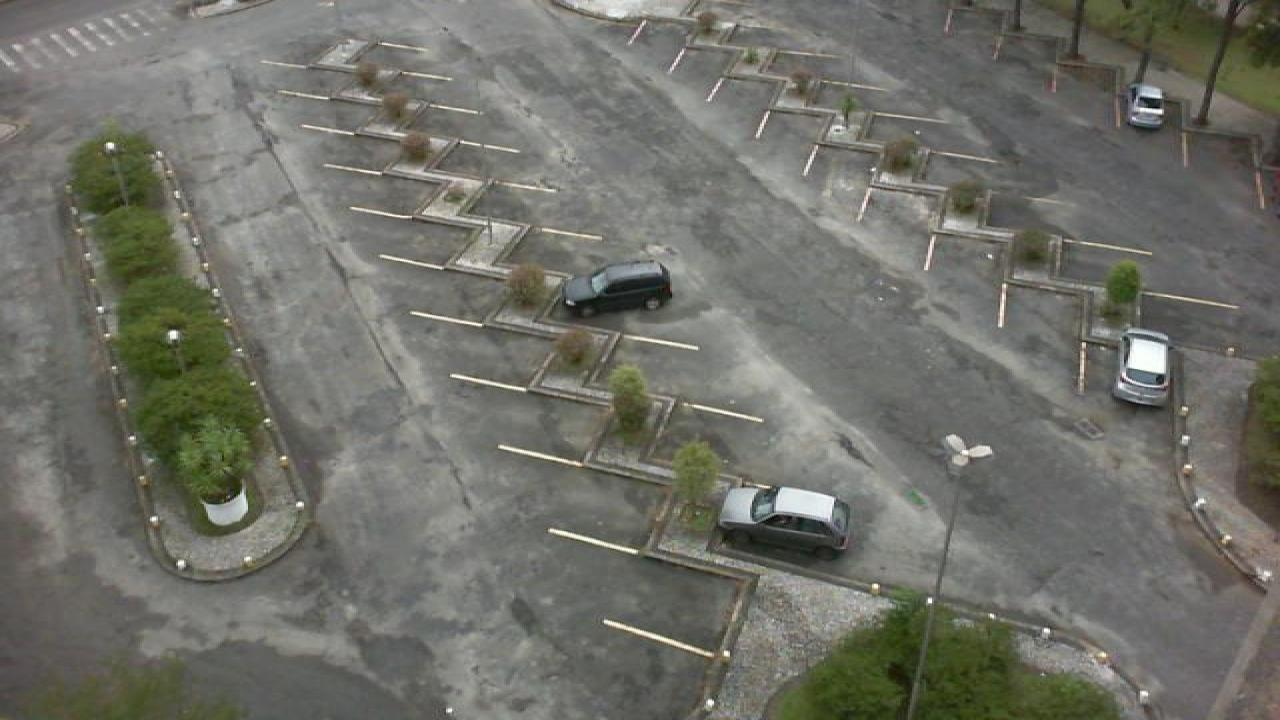Car: (718, 485, 852, 557), (562, 261, 674, 319), (1114, 329, 1174, 406), (1128, 84, 1166, 128)
